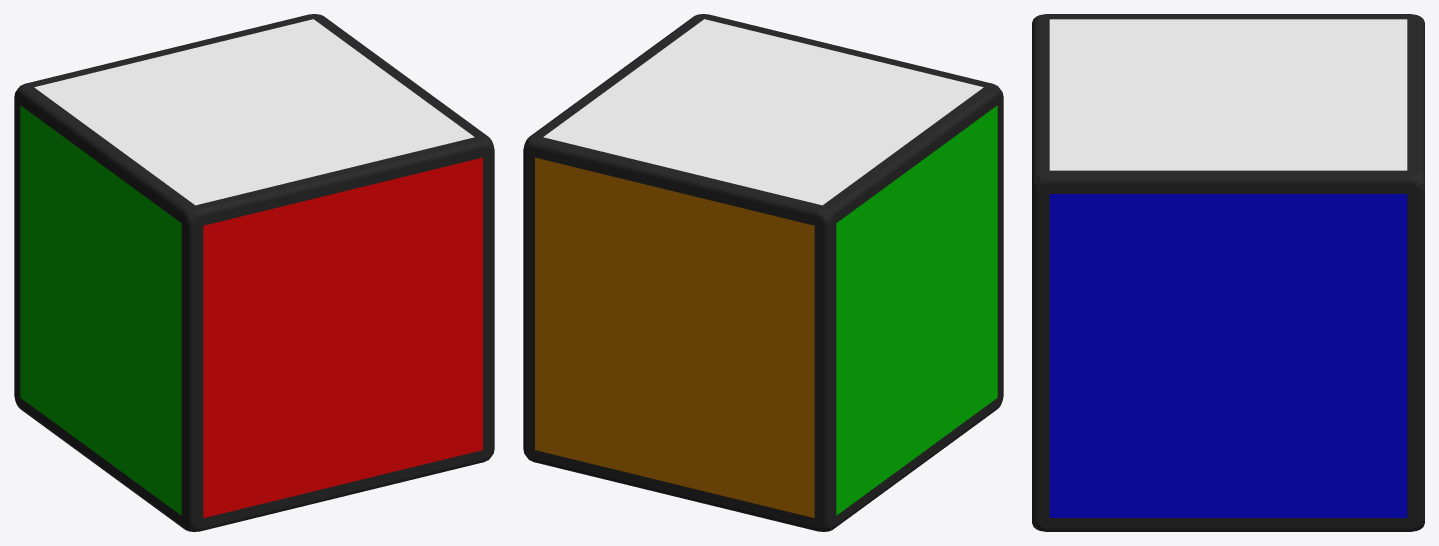
The picture shows the model from 3 angles, left to right: view 1: azimuth 30°, elevation 25°; view 2: azimuth 150°, elevation 25°; view 3: azimuth 270°, elevation 25°; orthographic projection. The views are drawn at different scales.
Visible parts, largest first — view 1: Cube; view 2: Cube; view 3: Cube.
Boxes of the visible parts, left/top/right/bottom form: Cube: left=14, top=14, right=494, bottom=531; Cube: left=523, top=14, right=1003, bottom=531; Cube: left=1032, top=14, right=1424, bottom=531.
Bounding box in the file's own units: 1.02 × 1.02 × 1.02.
